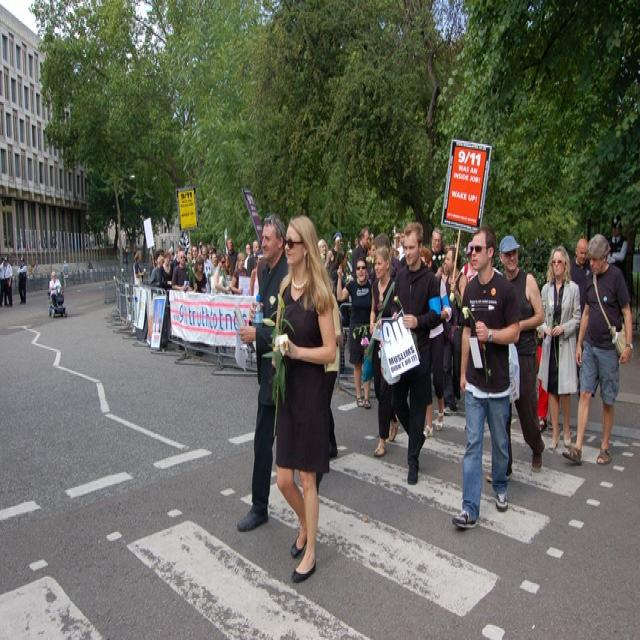body: (146, 214, 426, 316), (271, 209, 338, 586), (449, 224, 522, 532), (559, 230, 636, 469), (236, 214, 290, 534), (387, 216, 442, 487), (497, 235, 546, 482), (538, 243, 582, 452), (332, 252, 379, 413), (367, 243, 401, 460), (418, 245, 453, 440), (535, 255, 570, 438), (388, 223, 422, 400), (442, 245, 469, 418), (325, 272, 344, 463), (171, 249, 193, 353), (567, 233, 594, 317), (27, 258, 95, 290), (370, 230, 402, 291), (605, 212, 630, 282), (427, 227, 449, 275), (211, 251, 233, 297), (229, 251, 250, 297), (459, 239, 480, 282), (187, 255, 208, 293), (45, 269, 64, 311), (130, 246, 147, 287), (246, 239, 263, 278), (158, 249, 174, 290), (15, 255, 28, 305), (468, 263, 506, 279), (3, 255, 13, 308), (434, 258, 449, 290), (0, 254, 5, 308)
